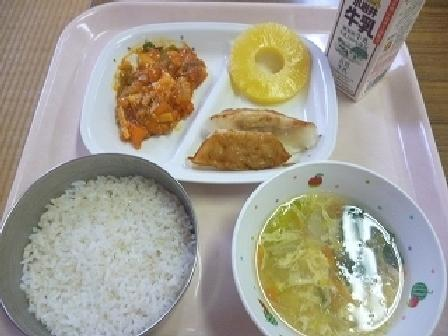Milk: (308, 2, 427, 97)
Rice: (3, 159, 203, 329)
Soups: (234, 172, 432, 332)
cooked food meat with vegetables: (113, 31, 215, 126)
pineapple: (221, 22, 310, 103)
tushpara-fried: (193, 103, 317, 174)
